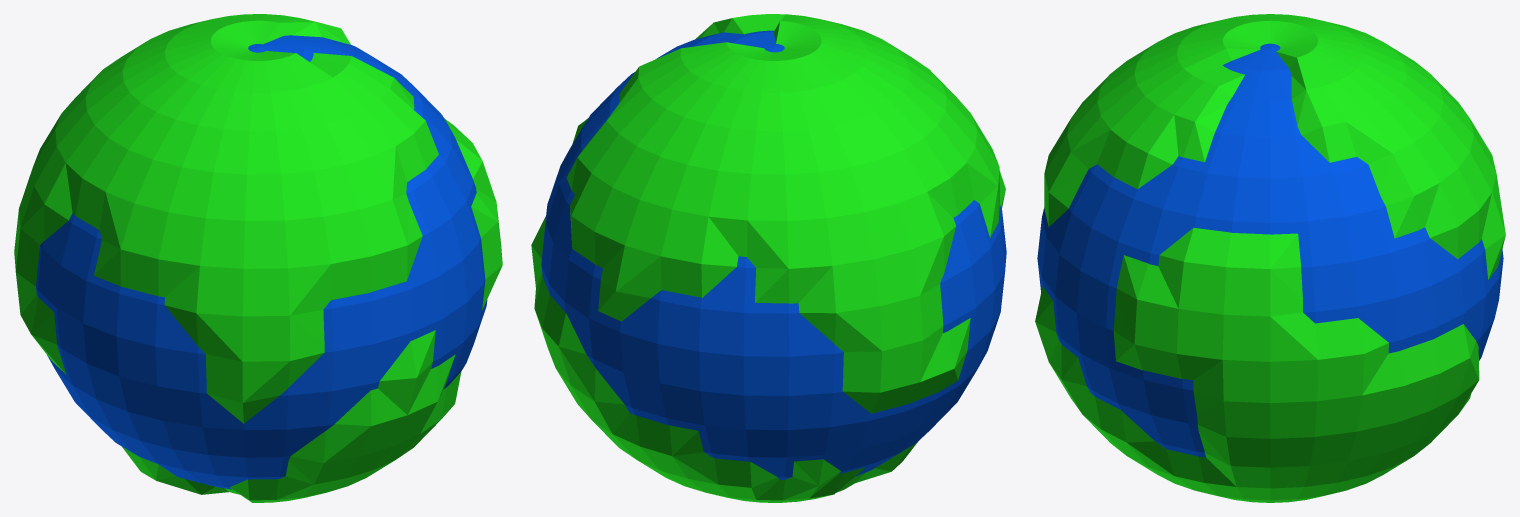
The model's file is World1.fbx.
3 renders of one model, left to right at view 1: azimuth 30°, elevation 25°; view 2: azimuth 150°, elevation 25°; view 3: azimuth 270°, elevation 25°, orthographic.
Visible parts, largest first — view 1: Sphere.001, Sphere; view 2: Sphere.001, Sphere; view 3: Sphere.001, Sphere.
Part boxes in pixels (x1,y1,x2,y2): Sphere.001: (14,14,502,502); Sphere: (36,35,487,489); Sphere.001: (531,14,1005,502); Sphere: (541,30,1006,479); Sphere.001: (1035,14,1505,502); Sphere: (1037,43,1503,457).
Size of the model in its own units: 206 by 208 by 202.
